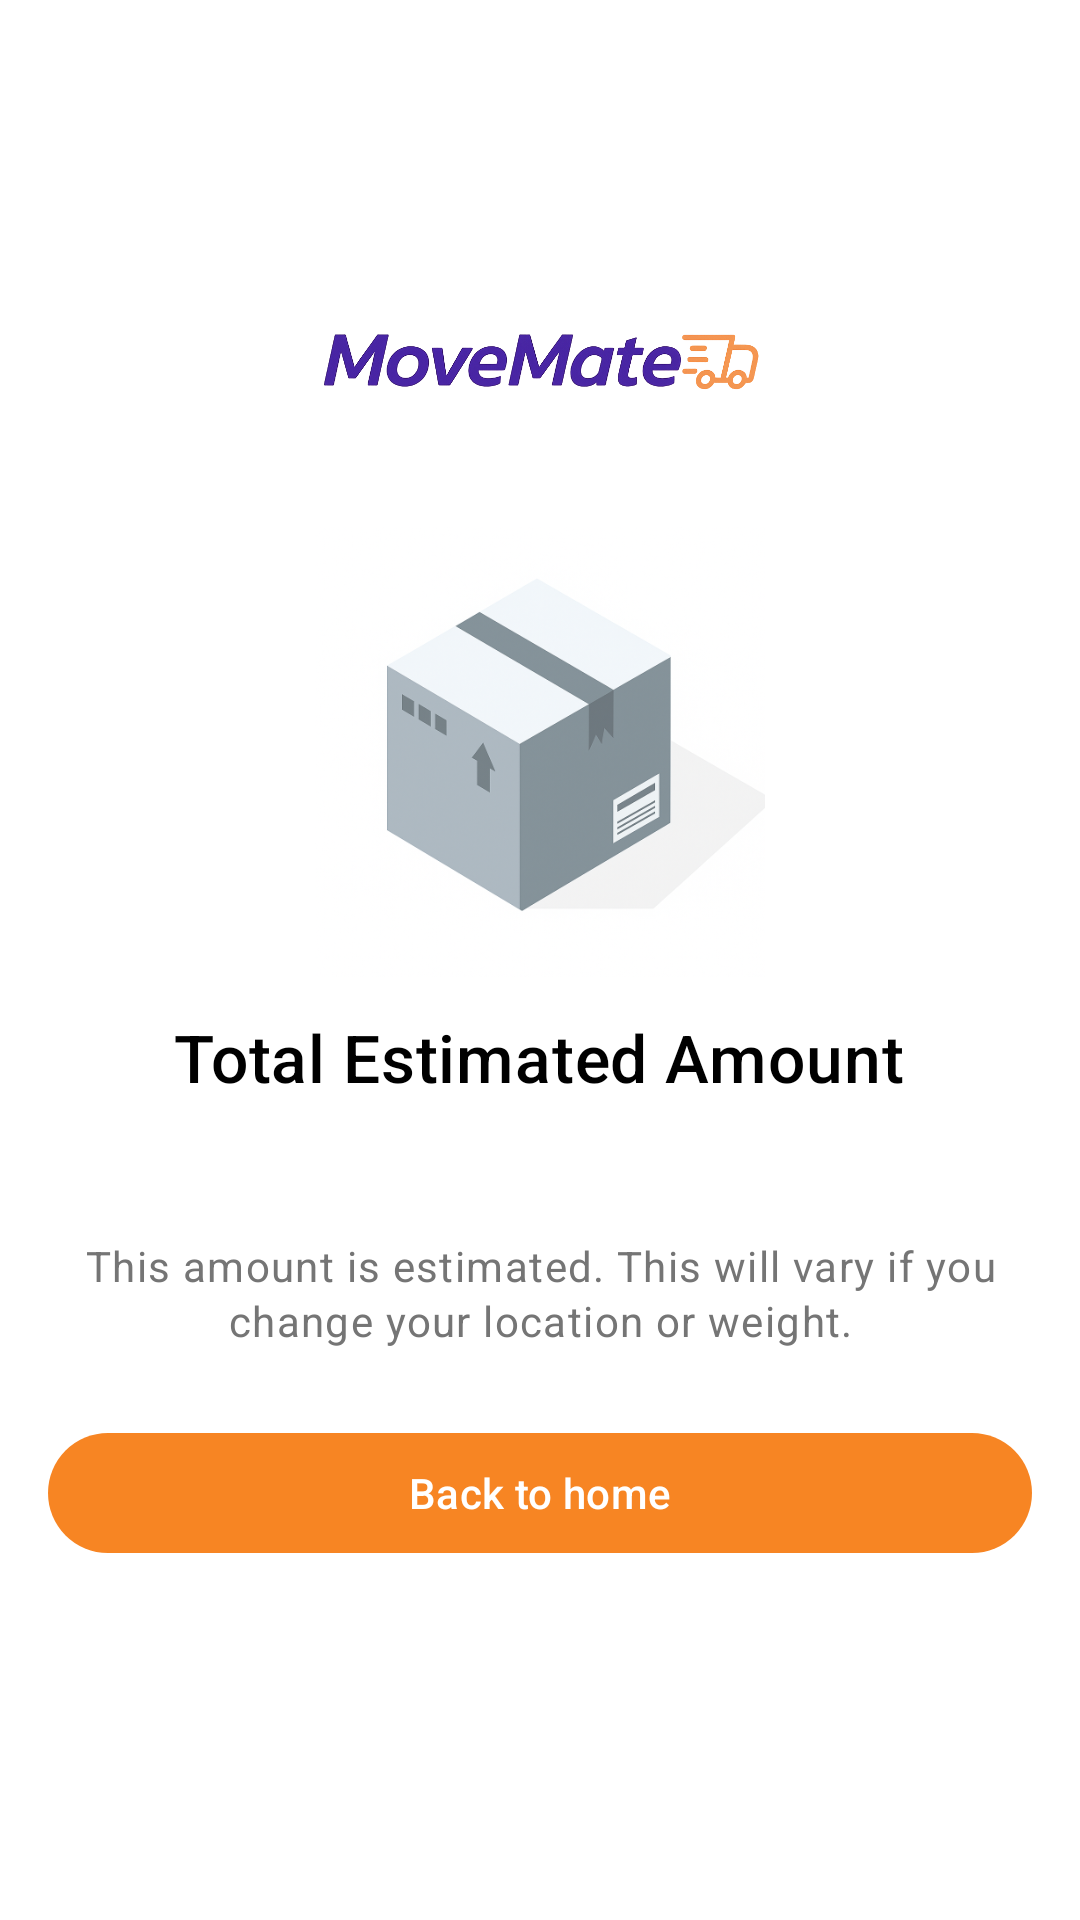

Where to tap for icons on this 1080×1920 app screen, as (x,y):
Parcel Box: (529,761)
